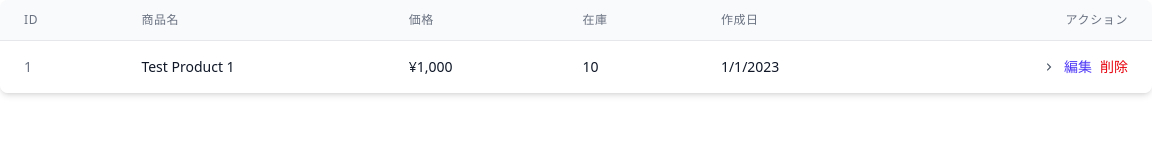
Test case: ProductList Component › should enter edit mode when edit button is clicked
Note: Find and click the edit button
Click the button "編集": (1078, 67) [1064,57,1092,77]
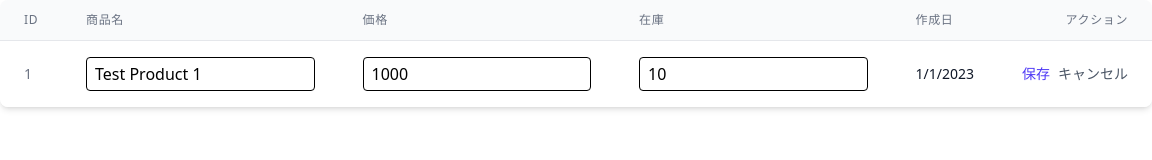
Result: the field showing "Test Product 1" is shown at [86,57,314,91]
Result: the 1st number field showing "1000" is shown at [362,57,591,91]
Result: the 2nd number field showing "10" is shown at [639,57,868,91]
